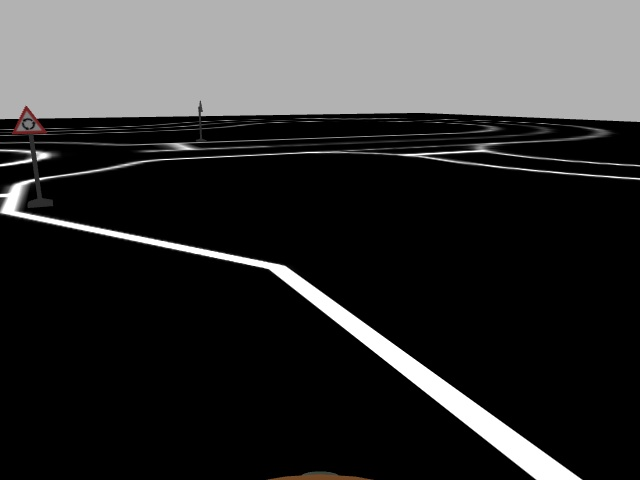roundabout: (10, 104, 47, 134)
